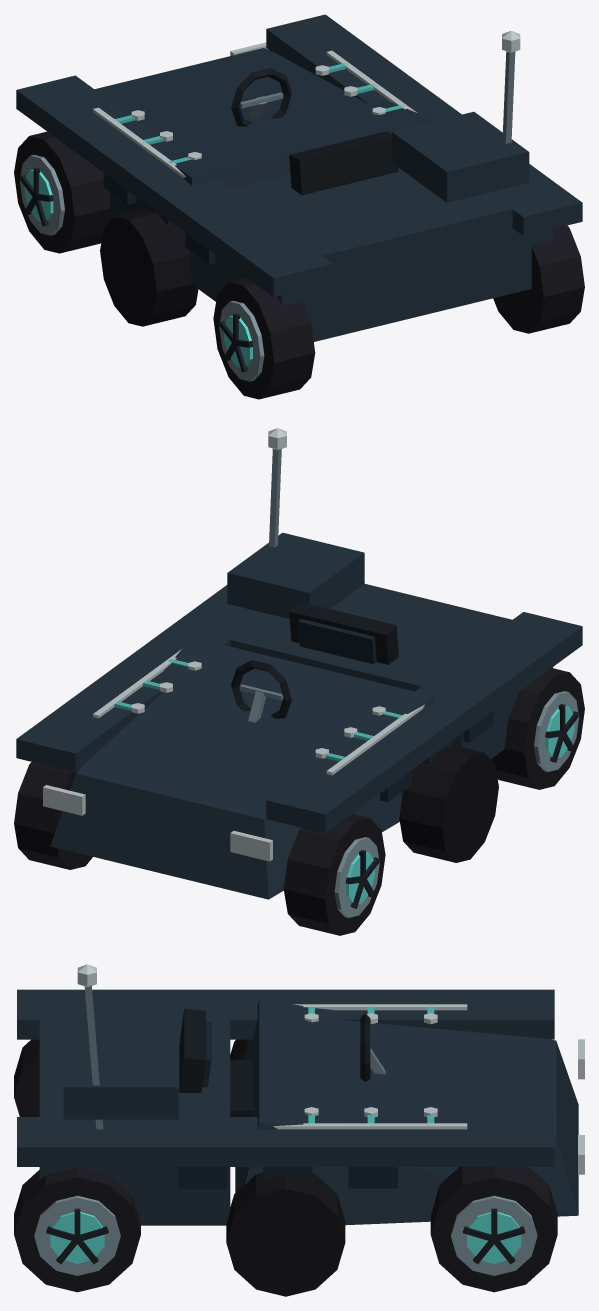
Rendered from kart.glb.
The picture shows the model from 3 angles, top to bottom: view 1: azimuth 30°, elevation 25°; view 2: azimuth 150°, elevation 25°; view 3: azimuth 270°, elevation 25°; orthographic projection. The views are drawn at different scales.
Parts seen in each view (by area): view 1: identity-apc-apc-armored-hull, wheel-rear-left, wheel-front-left, identity-apc-driver-cockpit, wheel-rear-right, identity-apc-motif-circuit, identity-apc-motif-antenna; view 2: identity-apc-apc-armored-hull, wheel-front-left, wheel-rear-left, identity-apc-driver-cockpit, wheel-front-right, identity-apc-motif-circuit, identity-apc-motif-antenna; view 3: identity-apc-apc-armored-hull, wheel-front-right, wheel-rear-right, identity-apc-driver-cockpit, identity-apc-motif-circuit, wheel-rear-left, identity-apc-motif-antenna.
Boxes of the visible parts, x1,y1,x2,y2 form: identity-apc-apc-armored-hull: (16,14,582,341); wheel-rear-left: (213,277,315,399); wheel-front-left: (14,131,113,253); identity-apc-driver-cockpit: (231,68,398,195); wheel-rear-right: (493,225,584,333); identity-apc-motif-circuit: (93,50,416,177); identity-apc-motif-antenna: (502,31,520,143); identity-apc-apc-armored-hull: (16,532,582,899); wheel-front-left: (283,814,385,935); wheel-rear-left: (491,668,584,789); identity-apc-driver-cockpit: (231,601,398,722); wheel-front-right: (14,762,92,869); identity-apc-motif-circuit: (93,649,424,775); identity-apc-motif-antenna: (268,428,286,547); identity-apc-apc-armored-hull: (17,989,584,1296); wheel-front-right: (430,1167,557,1292); wheel-rear-right: (14,1167,140,1292); identity-apc-driver-cockpit: (179,1008,385,1116); identity-apc-motif-circuit: (273,1004,467,1129); wheel-rear-left: (14,1039,39,1116); identity-apc-motif-antenna: (77,964,103,1129).
Bounding box in the file's own units: 2.08 × 1.72 × 2.88.
